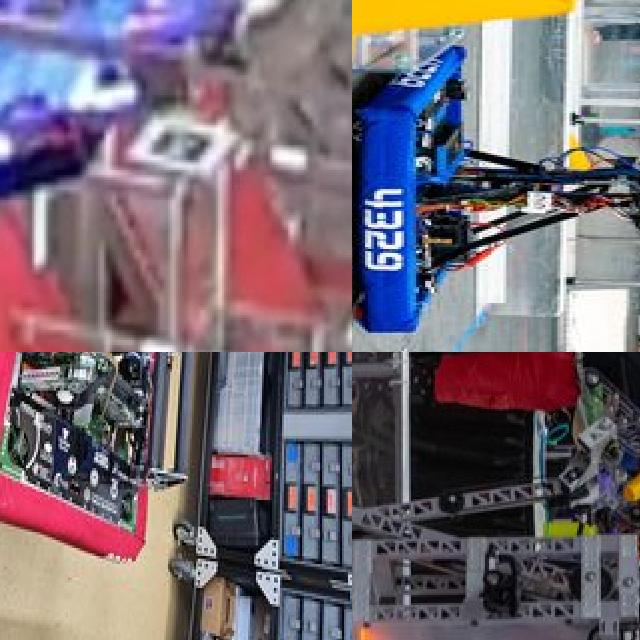FRC-Robots: (0, 0, 338, 352), (352, 0, 640, 352), (352, 352, 640, 640), (0, 352, 352, 576)
